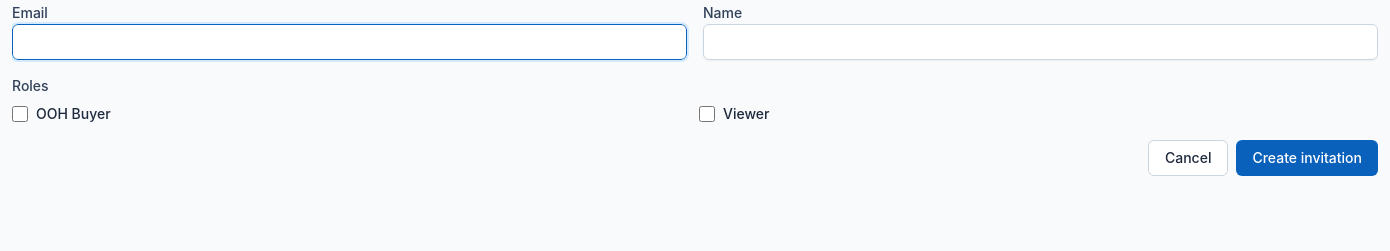
Test case: InviteMemberForm › requires at least one role
In the field labelled "Email": x=350, y=42 [12,24,687,60], type "ana@example.com"
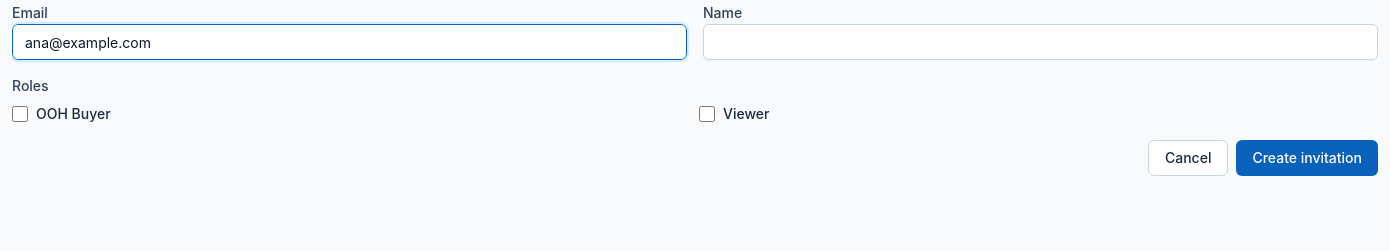
In the field labelled "Name": x=1040, y=42 [703,24,1378,60], type "Ana"
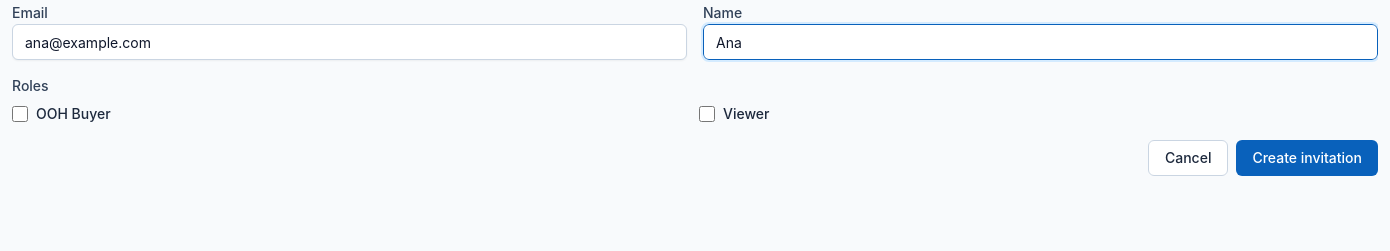
Click the button "Create invitation": x=1307, y=158 [1236,140,1378,176]
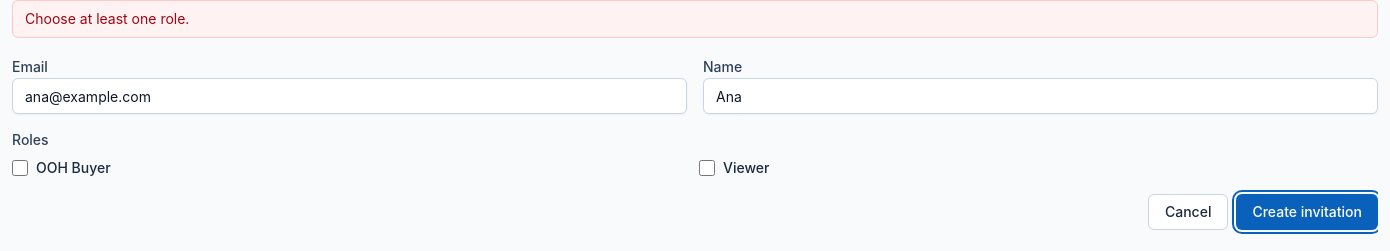
Expected: the message shows "at least one role", [25,10,189,27]
